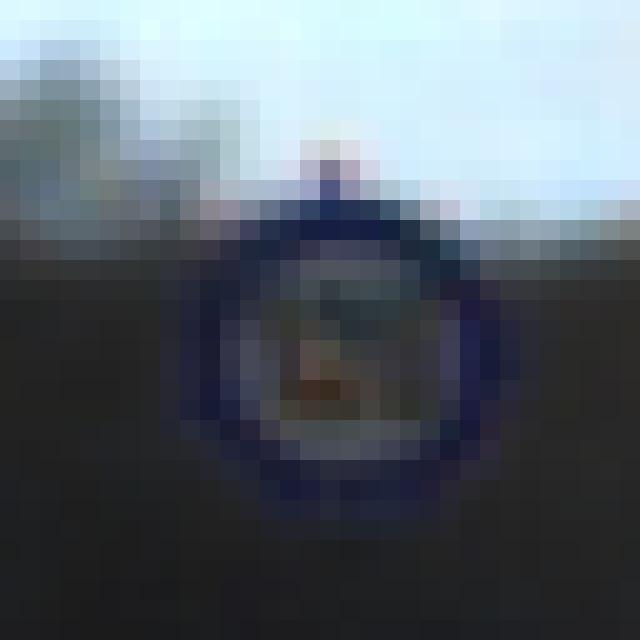SPEED LIMIT 120: (199, 211, 513, 514)
